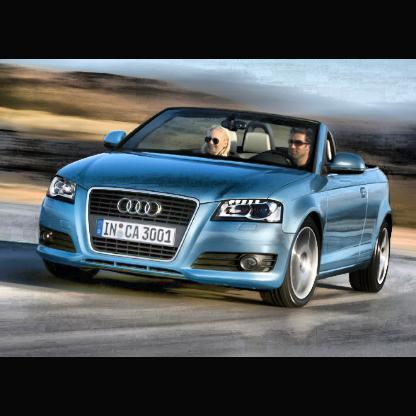Audi RS 4 Convertible 2008: (41, 108, 396, 309)
